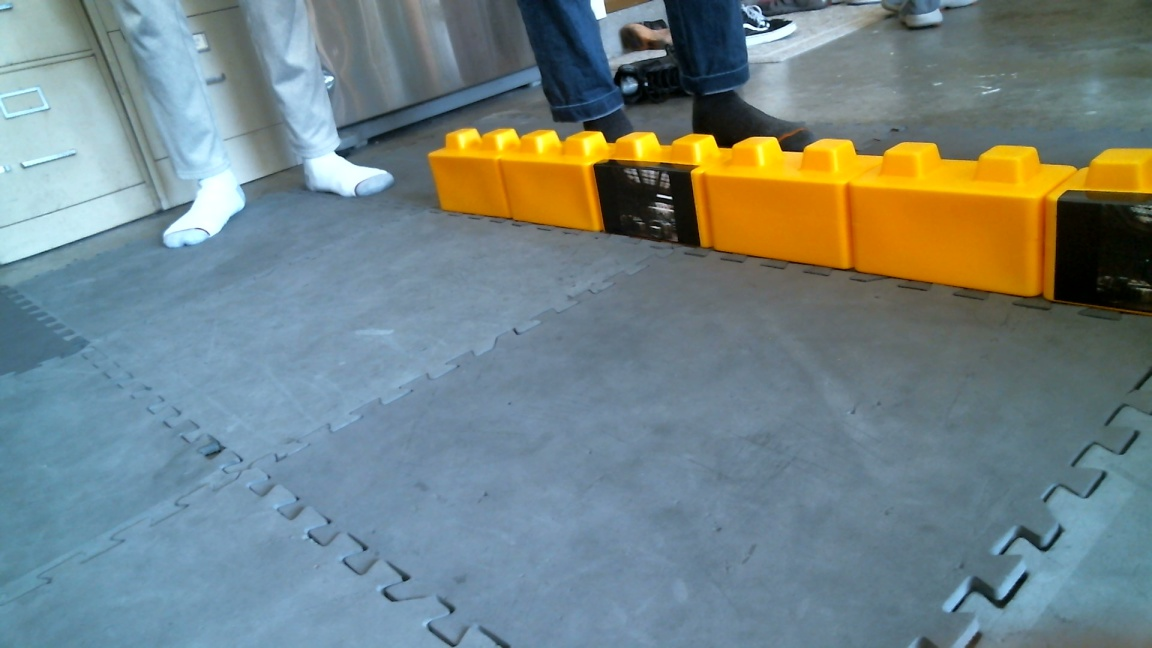center: (498, 129, 857, 274)
left: (595, 130, 1069, 303)
right: (713, 144, 1152, 322), (427, 130, 704, 246)
